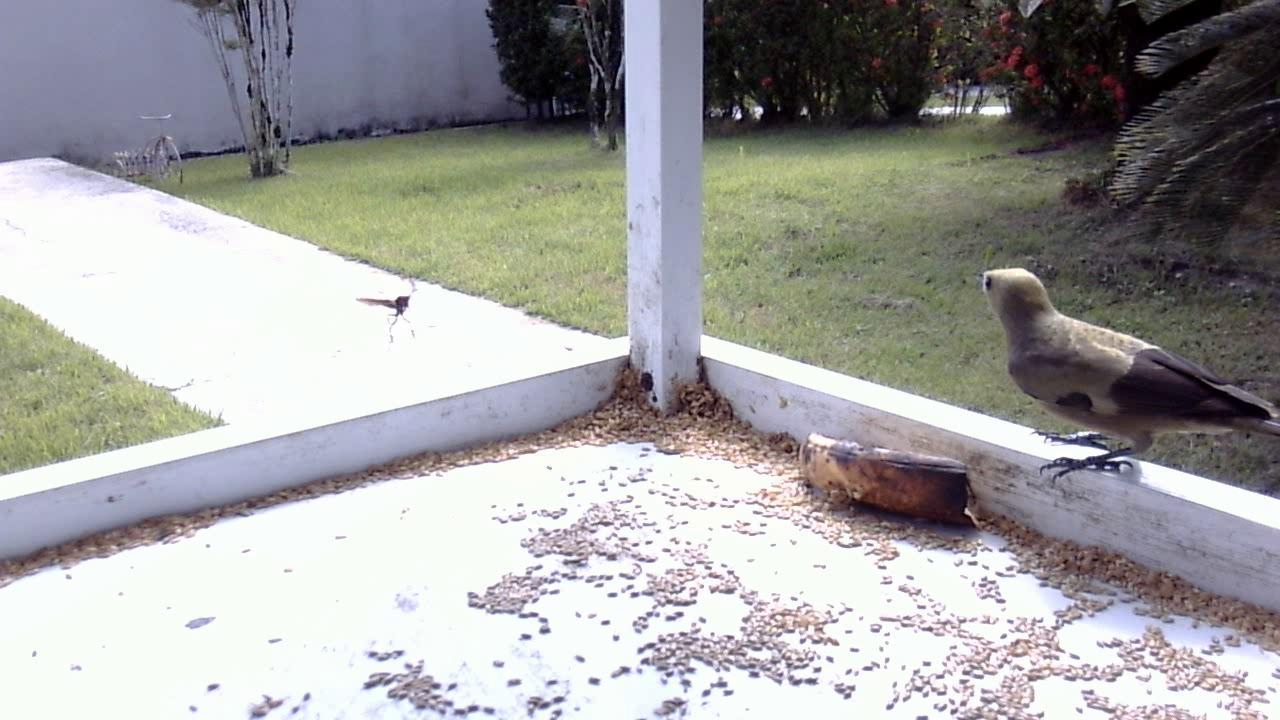sanhaco_do_coqueiro: (963, 253, 1278, 504)
